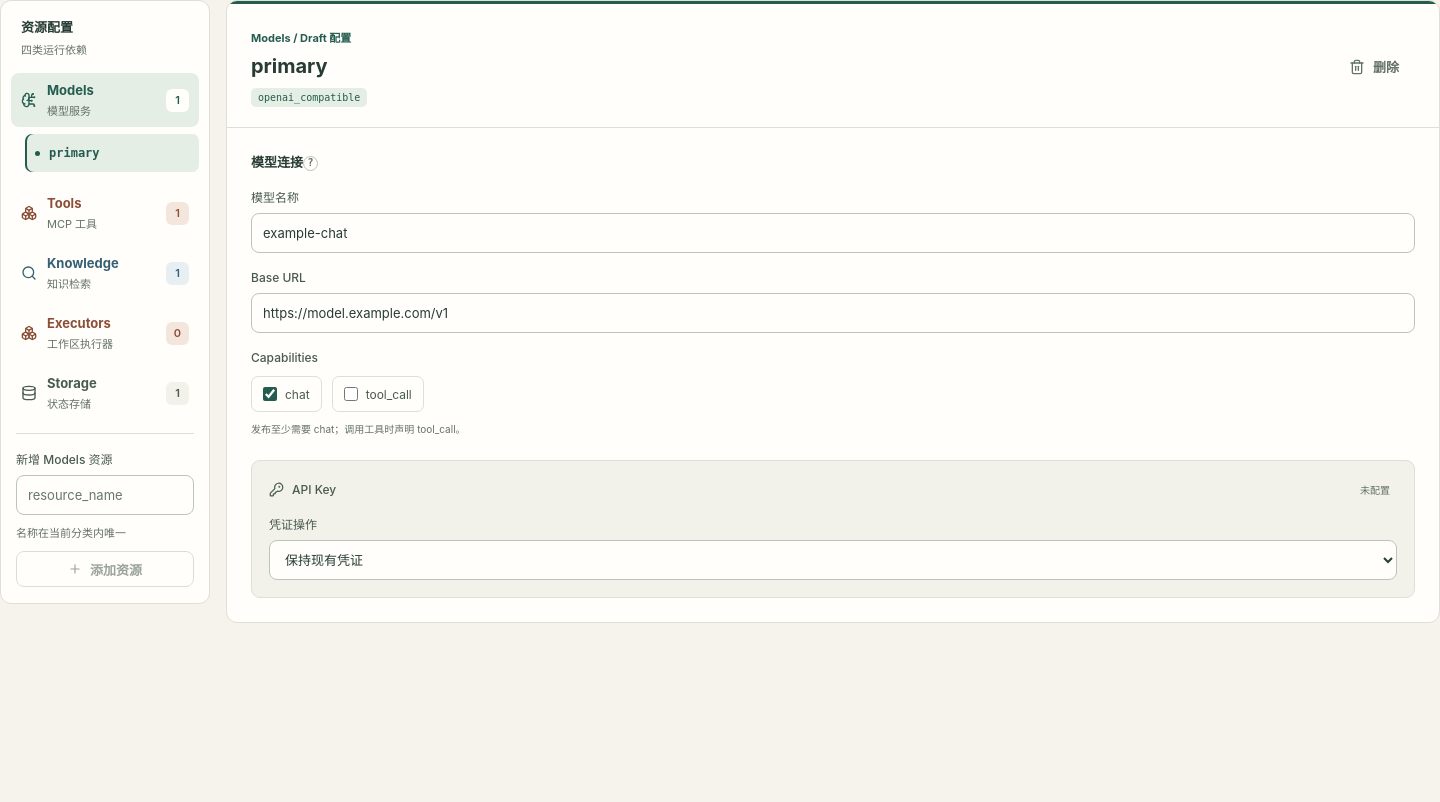
Runtime Profile resource forms › keeps category labels and selection independent of their visual color
Click the button "Models 模型服务 1" at (105, 100), box top-left (11, 73), bottom-right (199, 127)
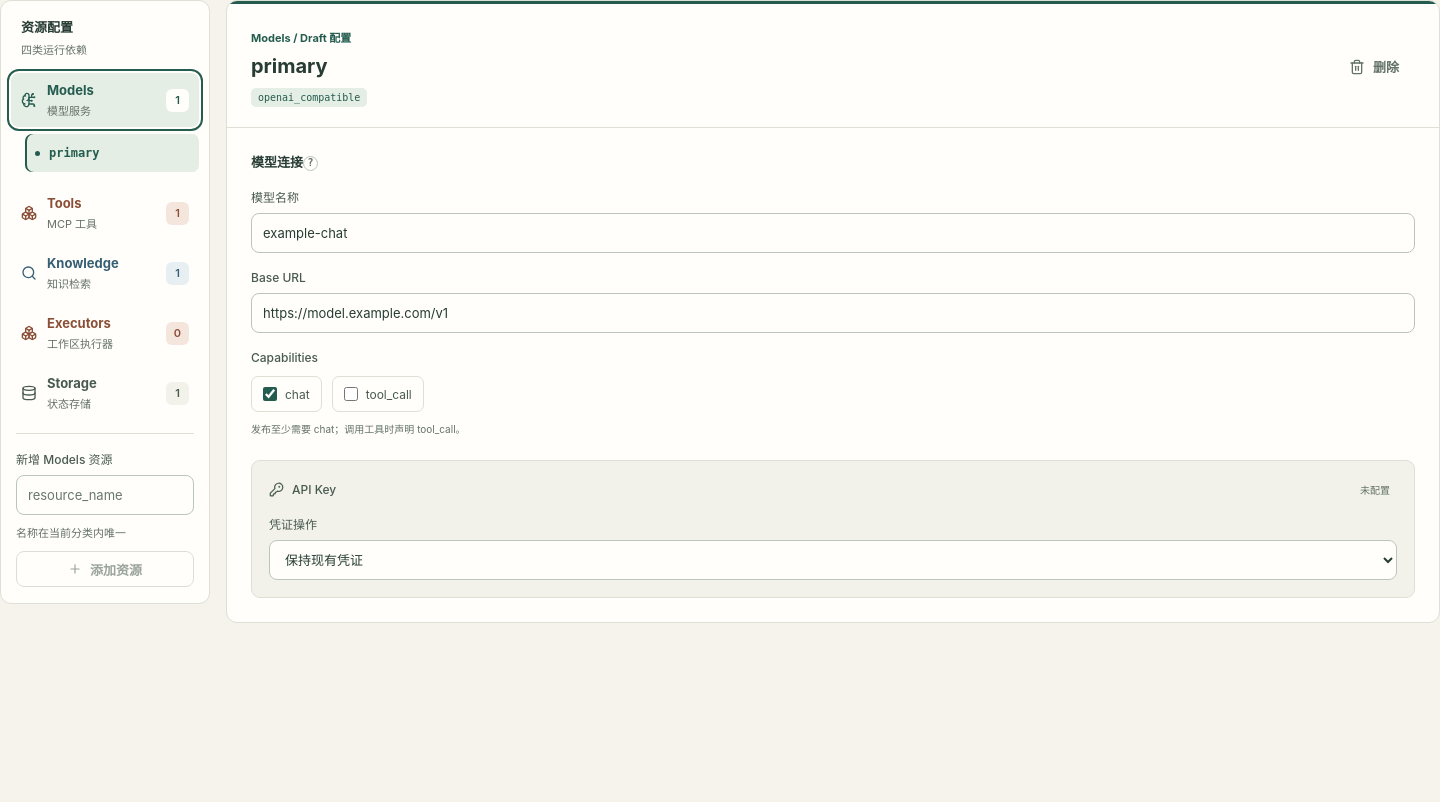
Click the button "Tools MCP 工具 1" at (105, 213), box top-left (11, 186), bottom-right (199, 240)
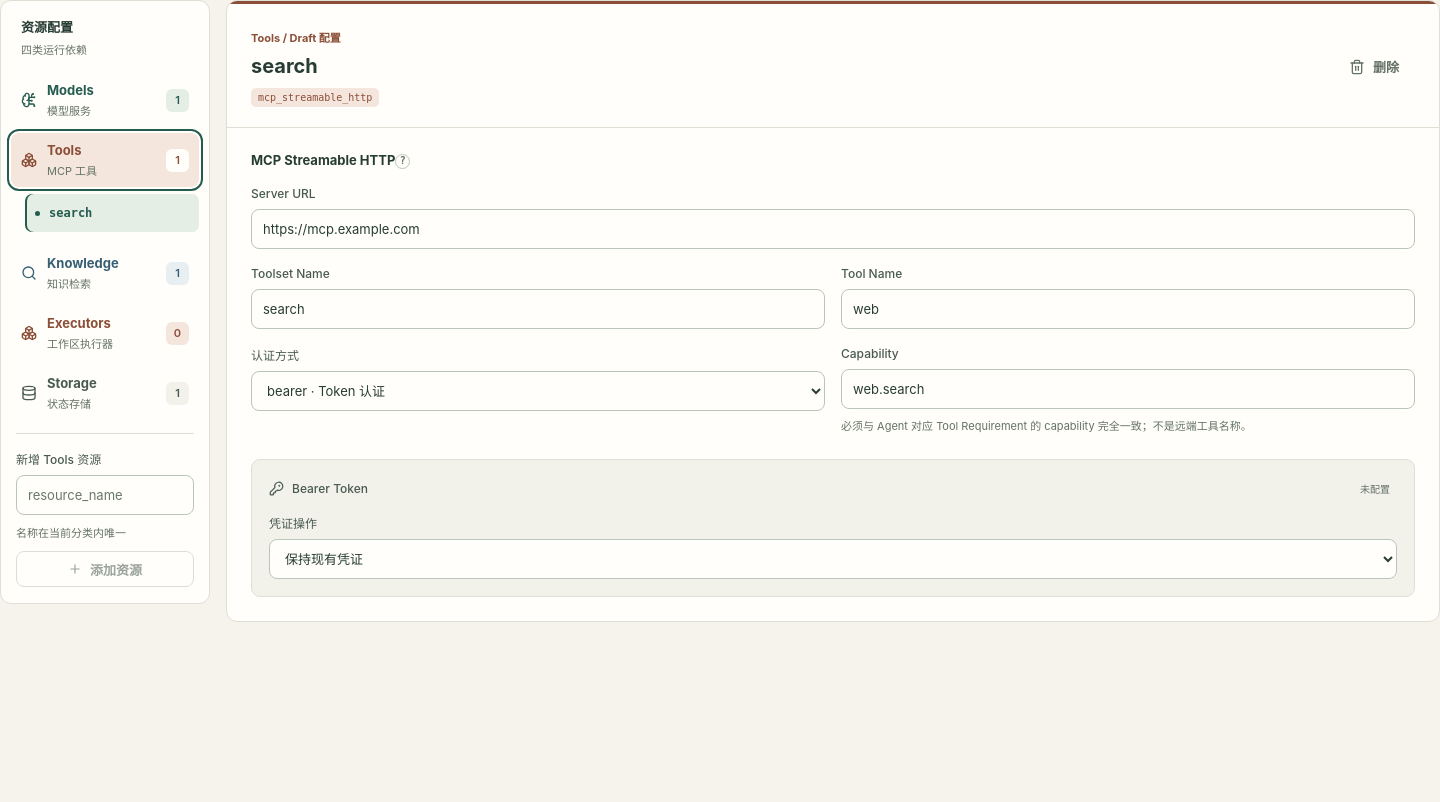
Click the button "Knowledge 知识检索 1" at (105, 273), box top-left (11, 246), bottom-right (199, 300)
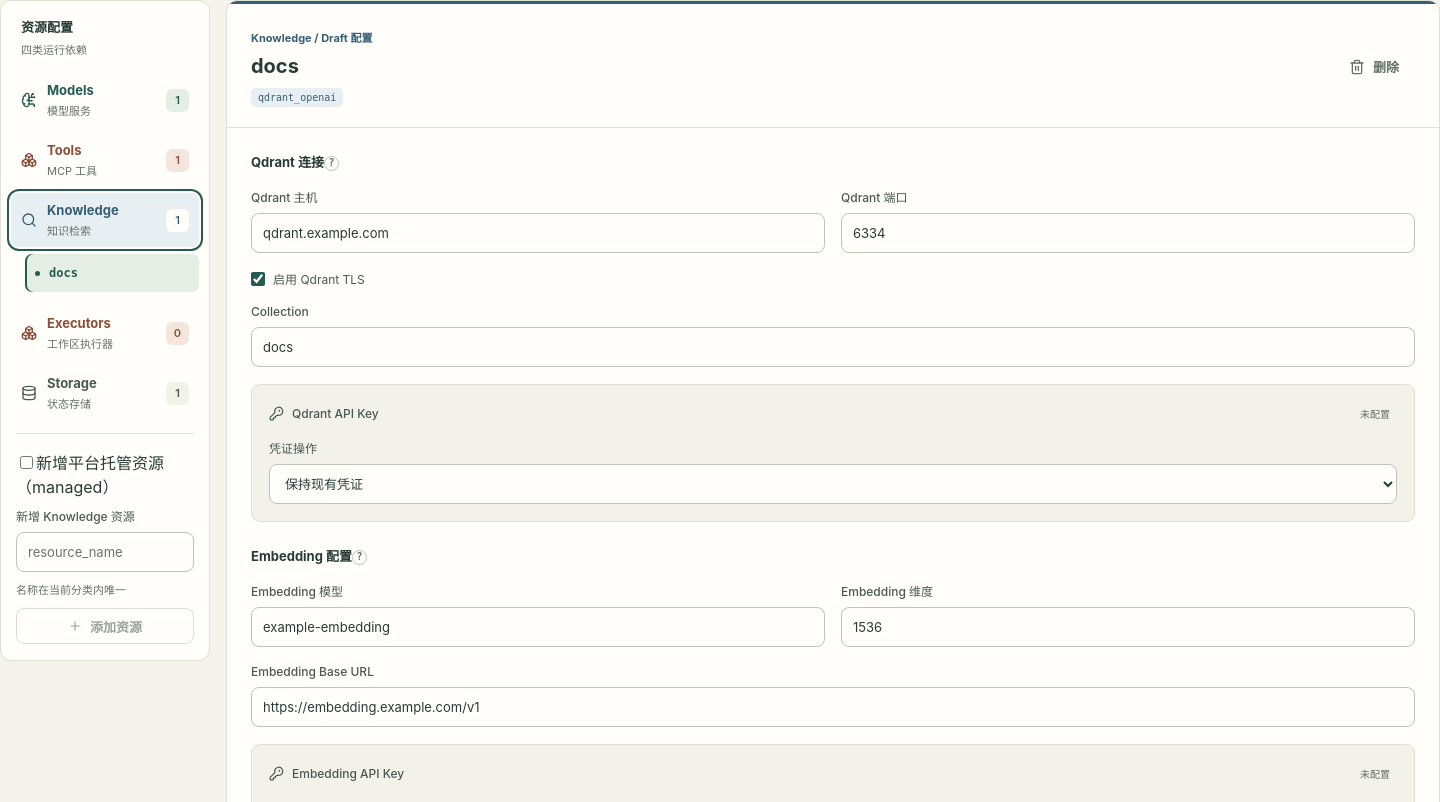
Click the button with aria-label "Storage ·" at (105, 393), box top-left (11, 366), bottom-right (199, 420)
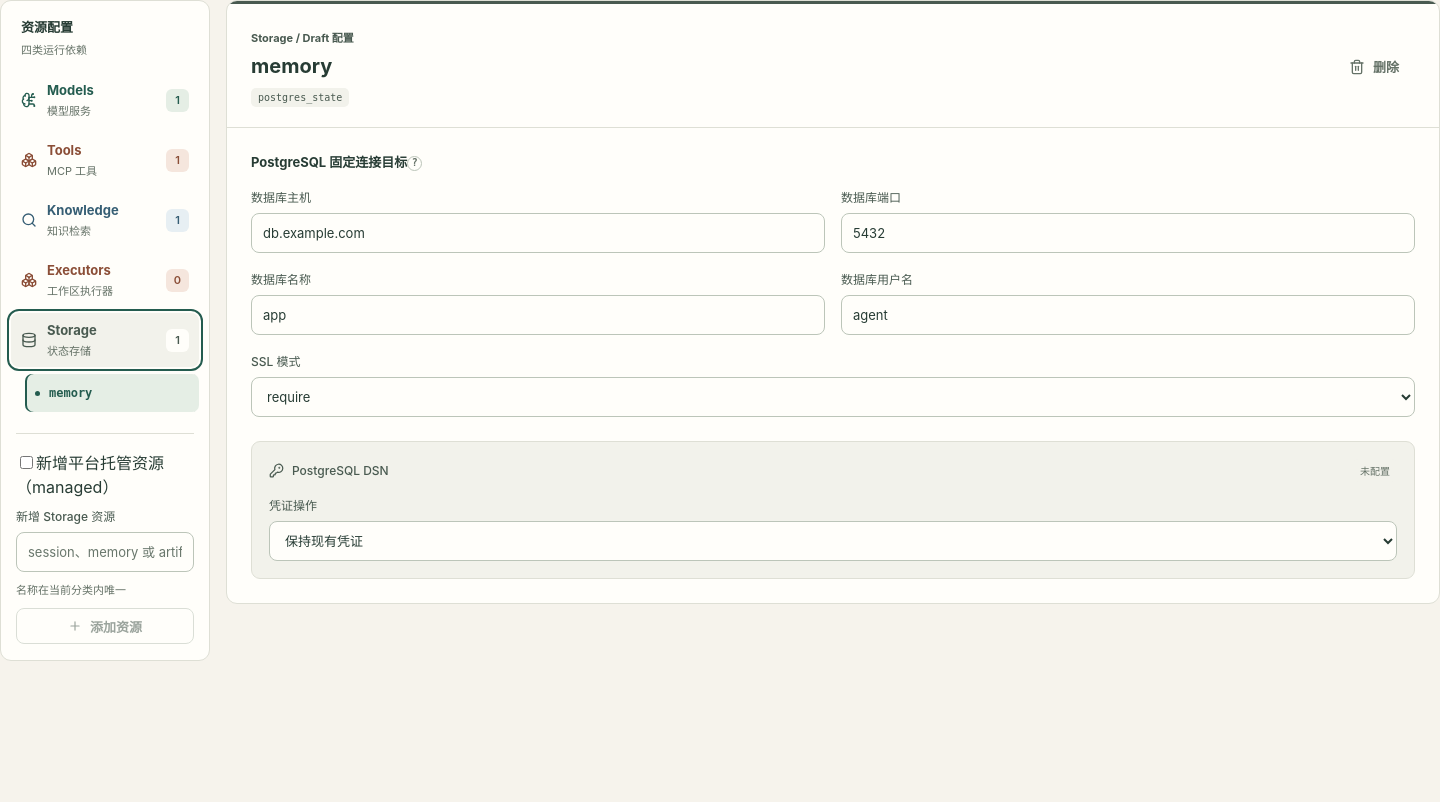
Result: the button with aria-label "Storage ·" is expanded at top-left (11, 313), bottom-right (199, 367)
